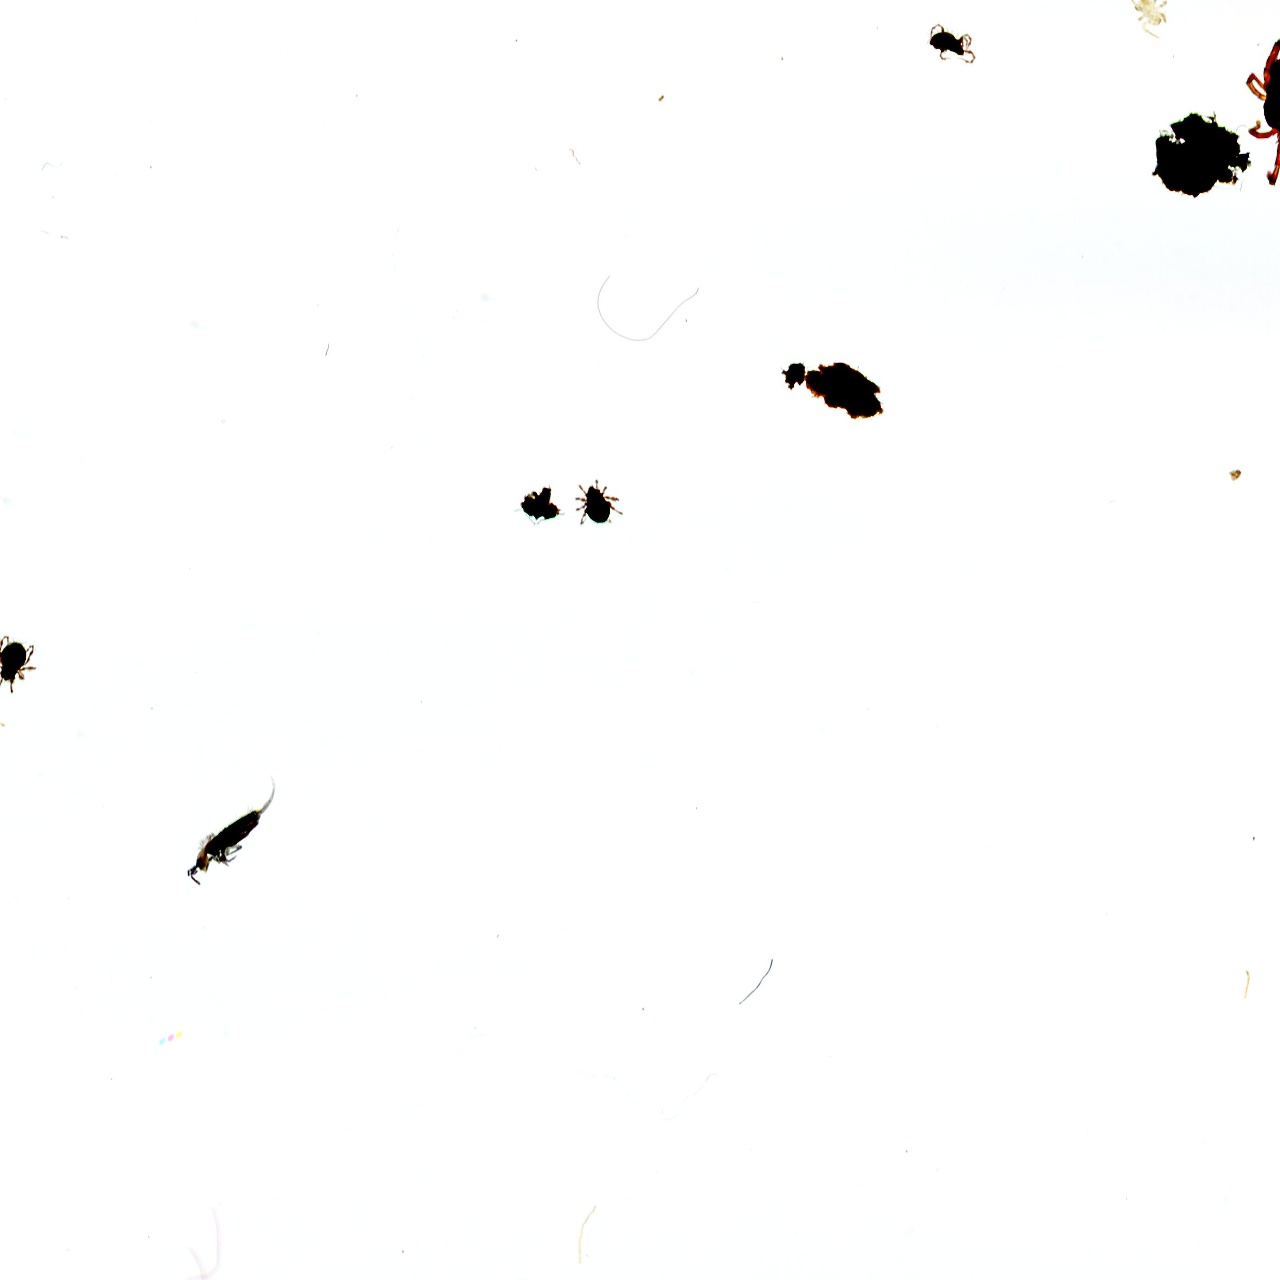arthropod: (171, 761, 297, 899), (1244, 36, 1280, 188), (1118, 0, 1183, 46), (572, 478, 625, 529), (0, 632, 39, 696), (926, 22, 976, 66)
